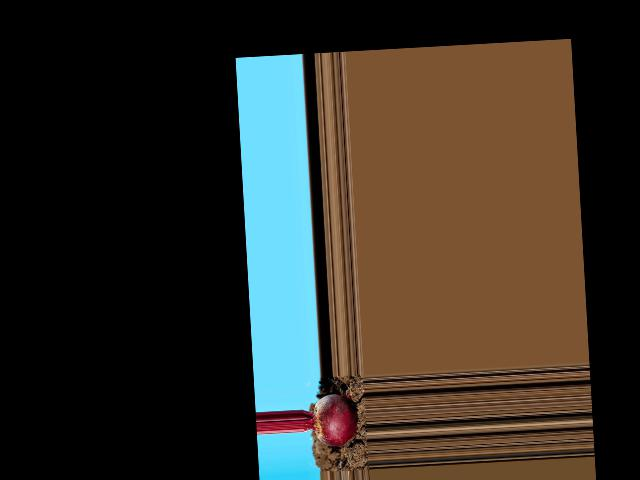beet: (301, 392, 358, 447)
